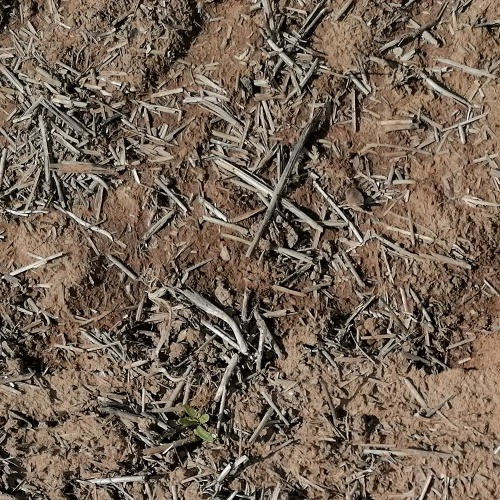beet: (181, 402, 214, 444)
